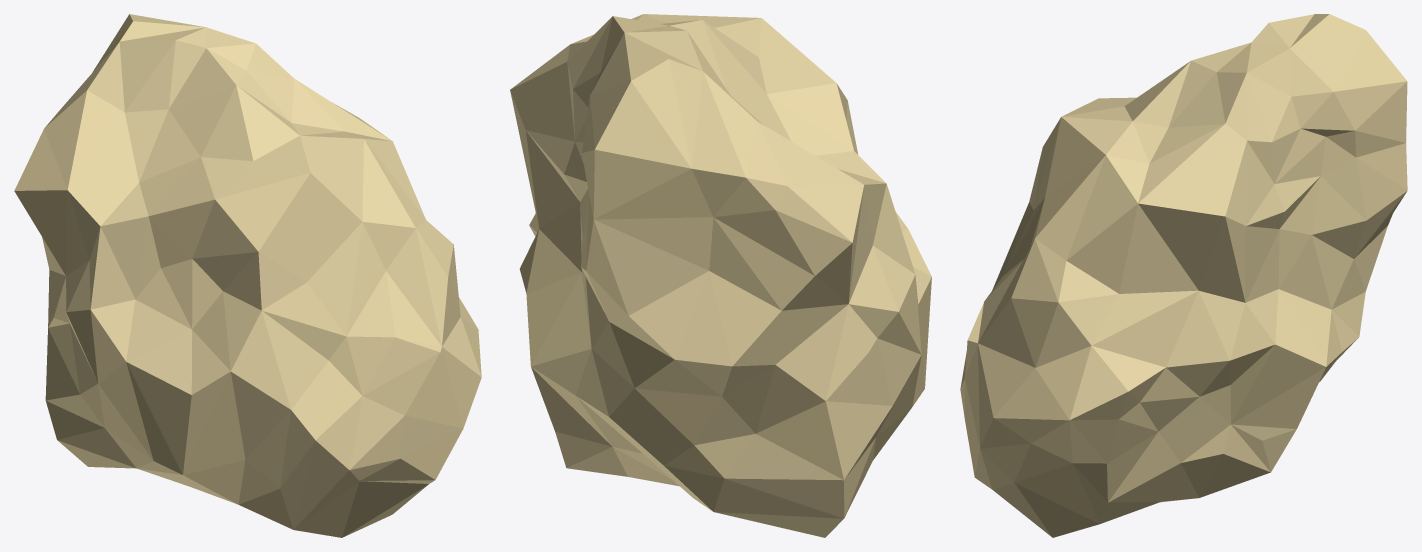
Rendered from Asteroid (117).fbx.
3 renders of one model, left to right at view 1: azimuth 30°, elevation 25°; view 2: azimuth 150°, elevation 25°; view 3: azimuth 270°, elevation 25°, orthographic. The views are drawn at different scales.
Parts seen in each view (by area): view 1: Asteroid141; view 2: Asteroid141; view 3: Asteroid141.
Boxes of the visible parts, x1=… form: Asteroid141: x1=14, y1=14, x2=481, y2=537; Asteroid141: x1=510, y1=14, x2=931, y2=537; Asteroid141: x1=960, y1=14, x2=1407, y2=537.
Size of the model in its own units: 202 by 242 by 206.
